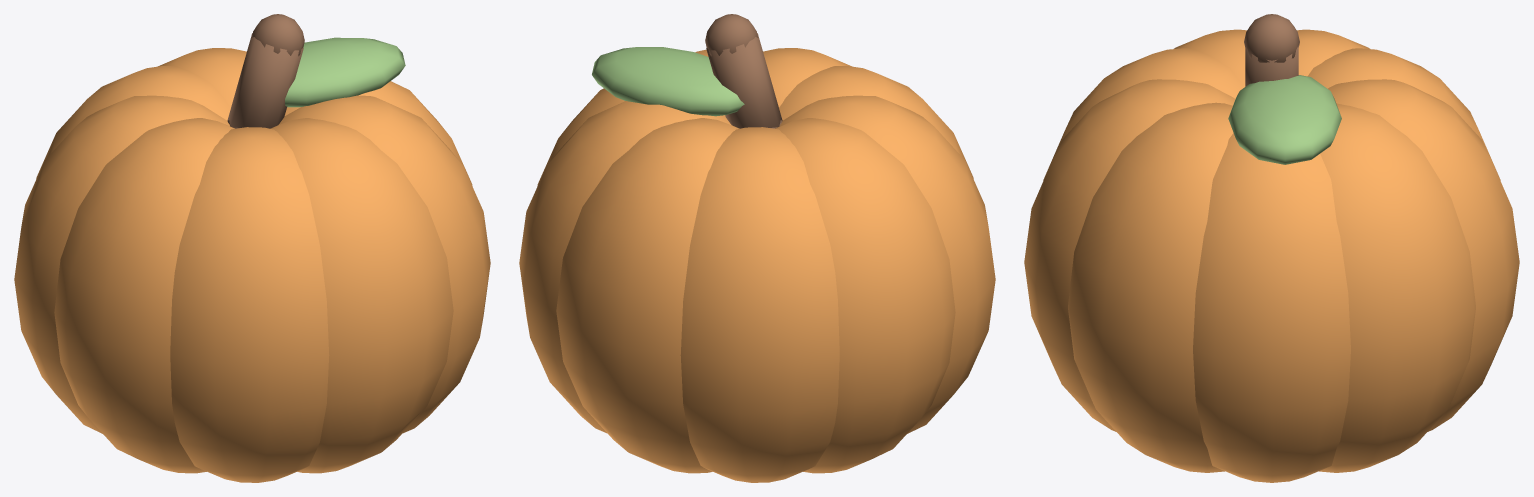
File: pumpkin.glb
3 renders of one model, left to right at view 1: azimuth 30°, elevation 25°; view 2: azimuth 150°, elevation 25°; view 3: azimuth 270°, elevation 25°, orthographic. The views are drawn at different scales.
Parts seen in each view (by area): view 1: pumpkin; view 2: pumpkin; view 3: pumpkin.
Part boxes in pixels (x1,y1,x2,y2): pumpkin: (14, 14, 490, 482); pumpkin: (519, 14, 995, 482); pumpkin: (1024, 14, 1519, 482).
Size of the model in its own units: 0.5671 by 0.537 by 0.5665.
